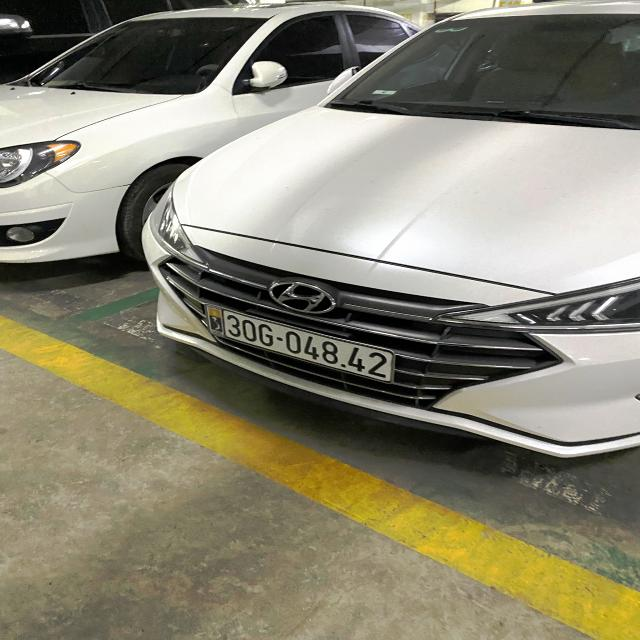license_plate: (203, 300, 401, 391)
